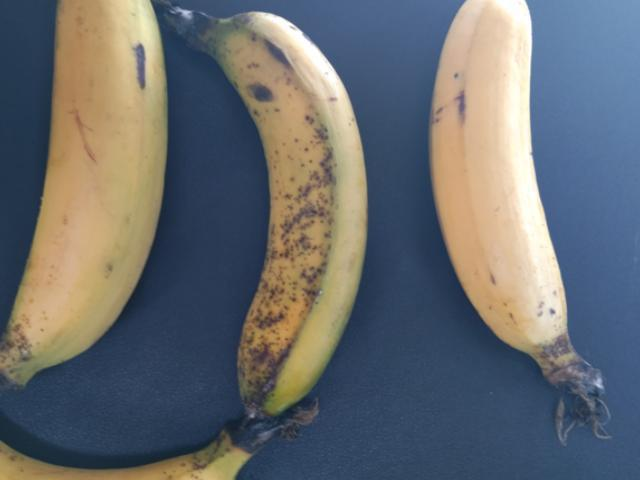freshripe: (407, 0, 623, 361), (8, 0, 162, 376)
ripe: (201, 13, 405, 449)
